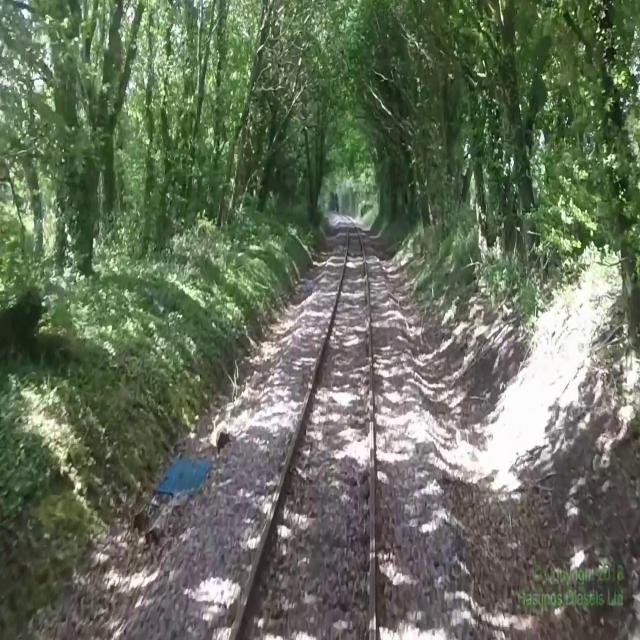rail-track: (234, 213, 370, 639)
